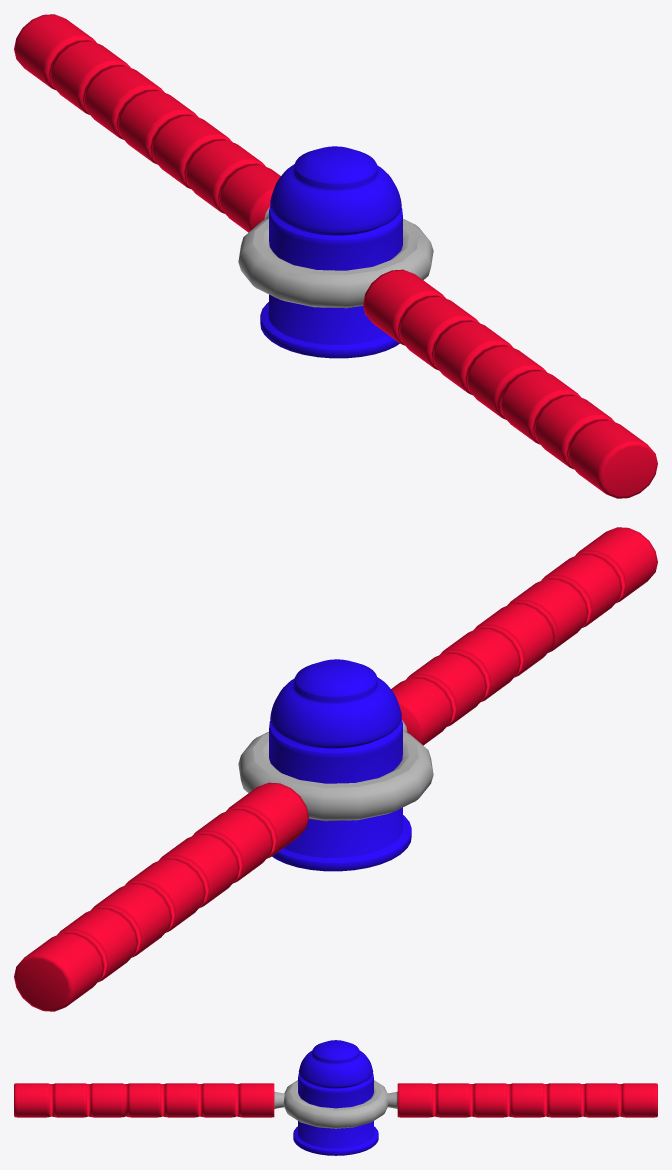
Rendered from Obstacle10.fbx.
The picture shows the model from 3 angles, top to bottom: view 1: azimuth 30°, elevation 25°; view 2: azimuth 150°, elevation 25°; view 3: azimuth 270°, elevation 25°; orthographic projection. The views are drawn at different scales.
Parts seen in each view (by area): view 1: Cylinder.021, Cylinder.015, Torus.007; view 2: Cylinder.021, Cylinder.015, Torus.007; view 3: Cylinder.021, Cylinder.015, Torus.007.
Part boxes in pixels (box(x1,y1,x2,y2)): Cylinder.021: box(14, 14, 657, 498); Cylinder.015: box(260, 146, 402, 358); Torus.007: box(238, 218, 433, 308); Cylinder.021: box(14, 527, 657, 1011); Cylinder.015: box(269, 659, 411, 871); Torus.007: box(238, 731, 433, 821); Cylinder.021: box(14, 1083, 657, 1117); Cylinder.015: box(293, 1040, 378, 1155); Torus.007: box(283, 1080, 388, 1128).
Size of the model in its own units: 179 by 169 by 1065.
